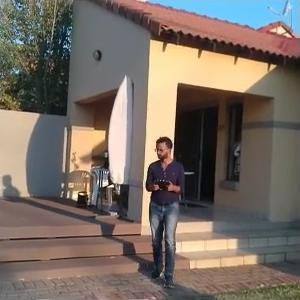follow: (142, 132, 187, 289)
